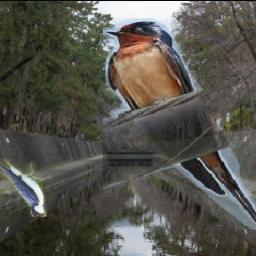Swallow: (104, 19, 256, 231), (0, 159, 48, 217)
